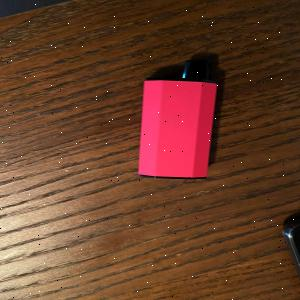Blume-E-Ciggirate: (132, 55, 221, 183)
